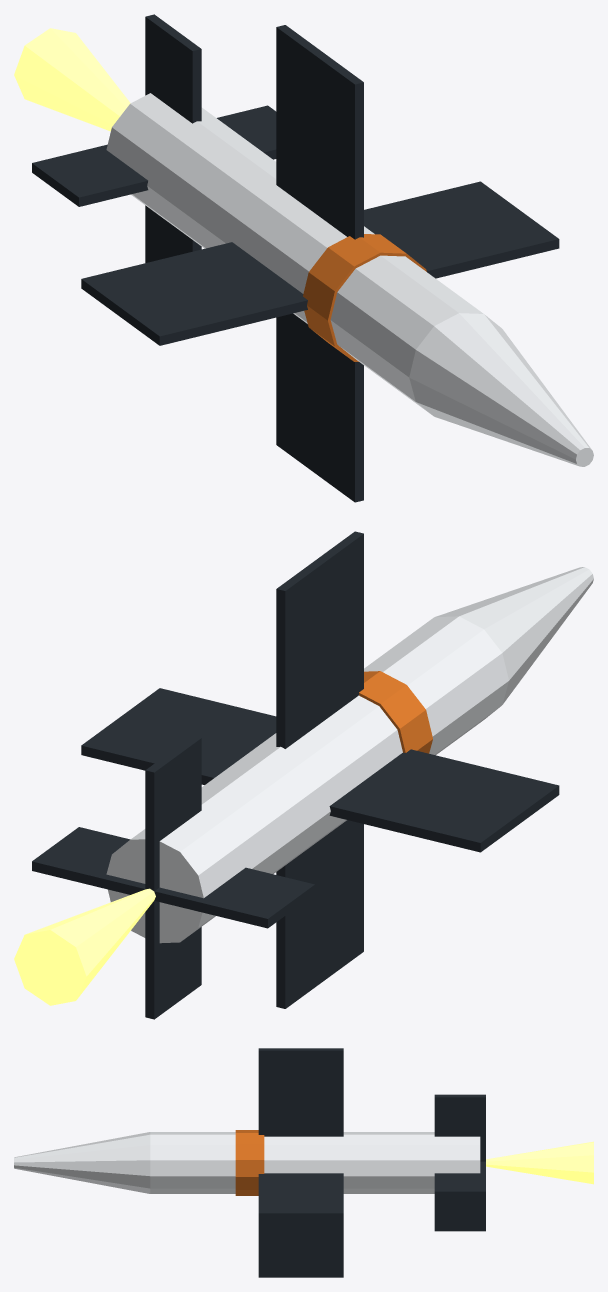
Rendered from arena_proj_missile.glb.
3 renders of one model, top to bottom at view 1: azimuth 30°, elevation 25°; view 2: azimuth 150°, elevation 25°; view 3: azimuth 270°, elevation 25°, orthographic. The views are drawn at different scales.
Parts seen in each view (by area): view 1: wings, body, fins, flame, band; view 2: wings, body, fins, flame, band; view 3: body, wings, fins, flame, band.
Part boxes in pixels (box(x1,y1,x2,y2)): wings: box(81, 25, 559, 502); body: box(106, 93, 593, 466); fins: box(32, 14, 276, 262); flame: box(14, 28, 130, 131); band: box(303, 234, 426, 361); wings: box(81, 531, 559, 1008); body: box(106, 567, 593, 943); fins: box(32, 736, 314, 1019); flame: box(14, 888, 155, 1005); band: box(359, 671, 432, 753); body: box(14, 1132, 480, 1193); wings: box(258, 1048, 343, 1277); fins: box(434, 1094, 485, 1231); flame: box(486, 1141, 593, 1184); band: box(235, 1130, 264, 1195).
Bounding box in the file's own units: 4.4 × 4.4 × 10.2.
